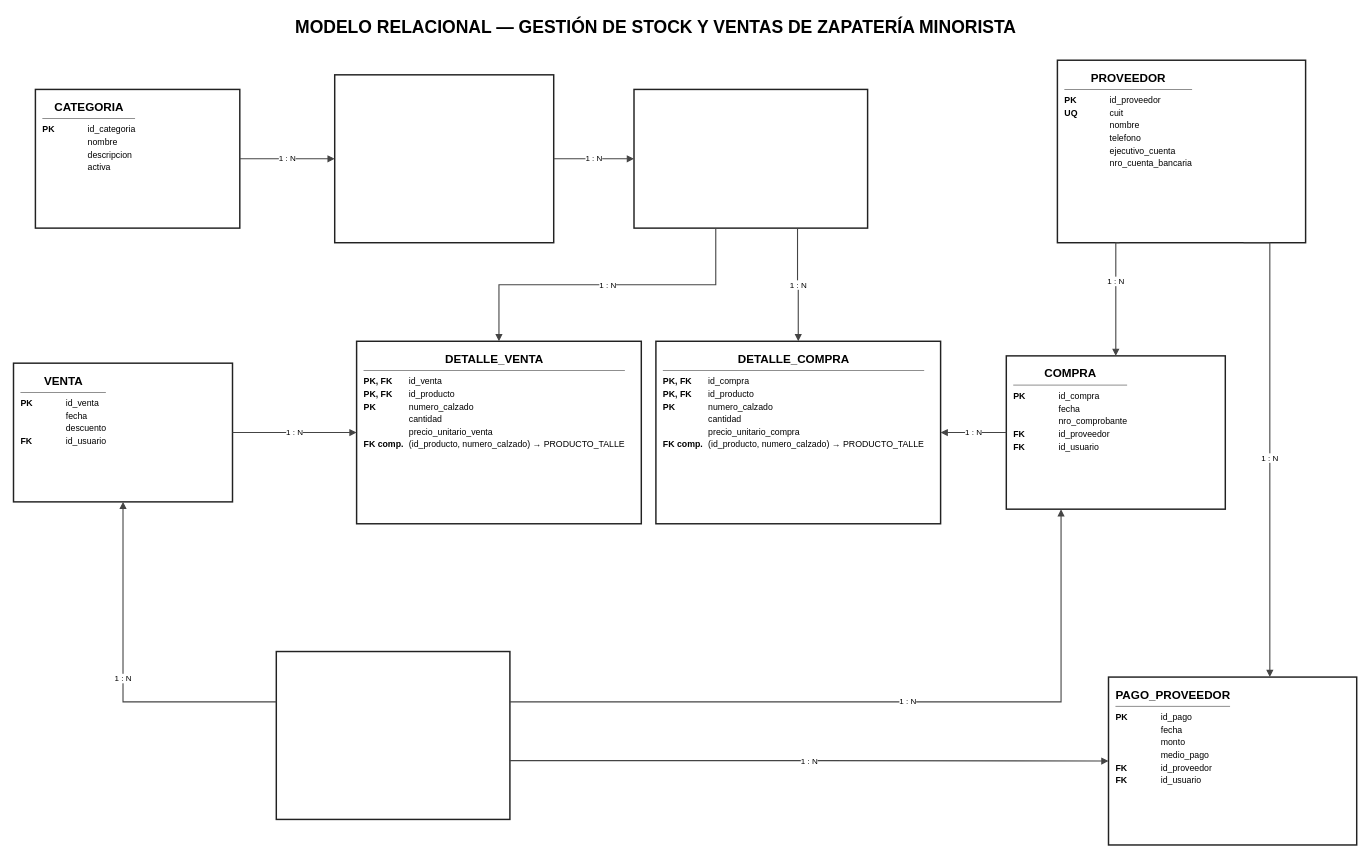
This 1369x858 diagram has some shape labels left out. Here are the shapes that lost their labels. From the top down, the box of each, then its label:
(334, 74, 554, 243): PRODUCTO PK id_producto marca modelo color precio_actual FK id_categoria
(633, 88, 868, 228): PRODUCTO_TALLE PK, FK id_producto PK numero_calzado stock
(275, 650, 510, 820): USUARIO PK id_usuario UQ nombre_usuario contrasenia rol activo
